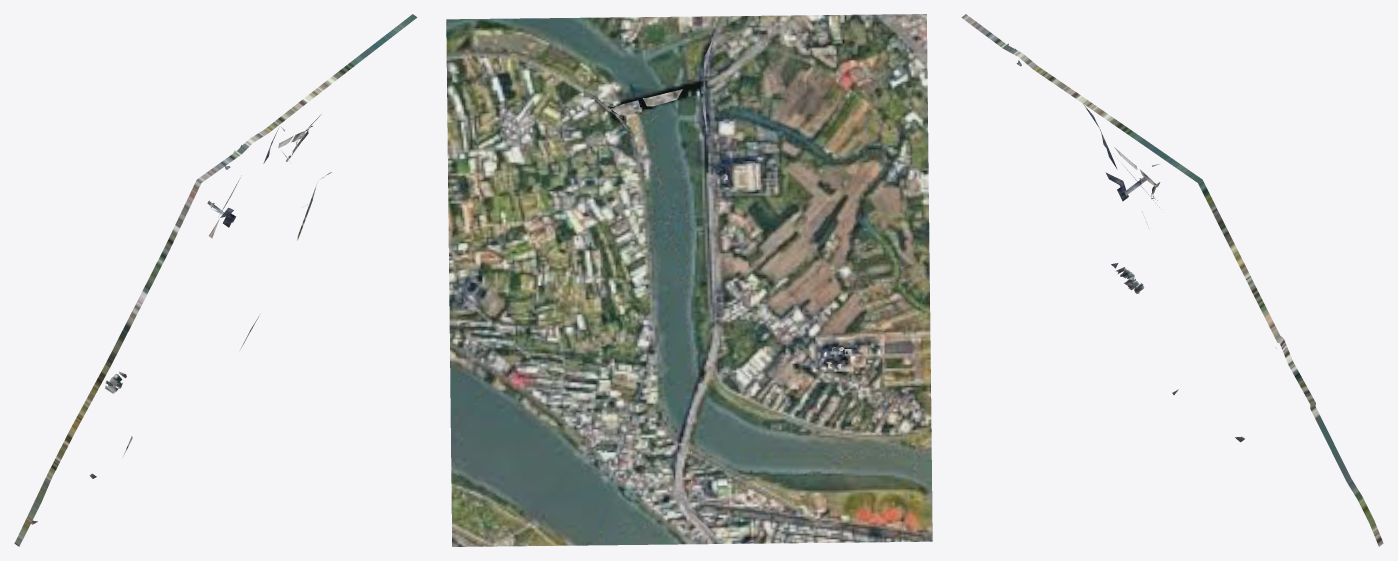
The picture shows the model from 3 angles, left to right: view 1: azimuth 30°, elevation 25°; view 2: azimuth 150°, elevation 25°; view 3: azimuth 270°, elevation 25°; orthographic projection. The views are drawn at different scales.
Size of the model in its own units: 2445 by 2223 by 2055.
1 material, 1 textured.
